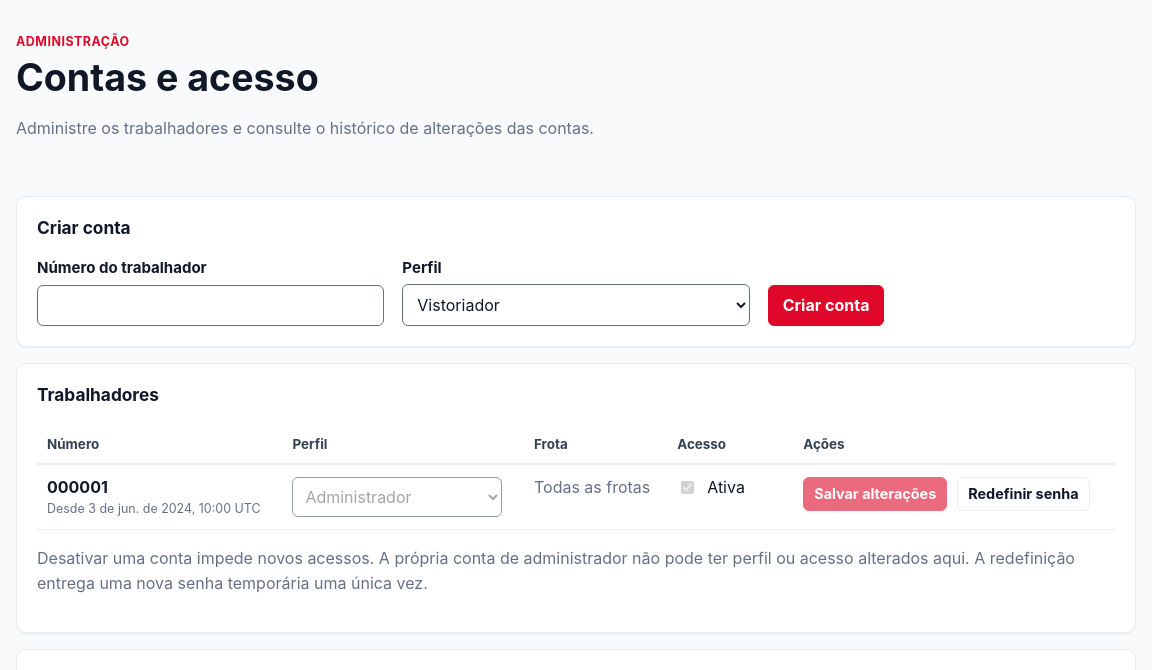
Test: AdminPage › mantém a senha temporária visível quando o administrador redefine a própria senha
Click the button "Redefinir senha" at point(1023, 494), box x1=957 y1=477 x2=1090 y2=511
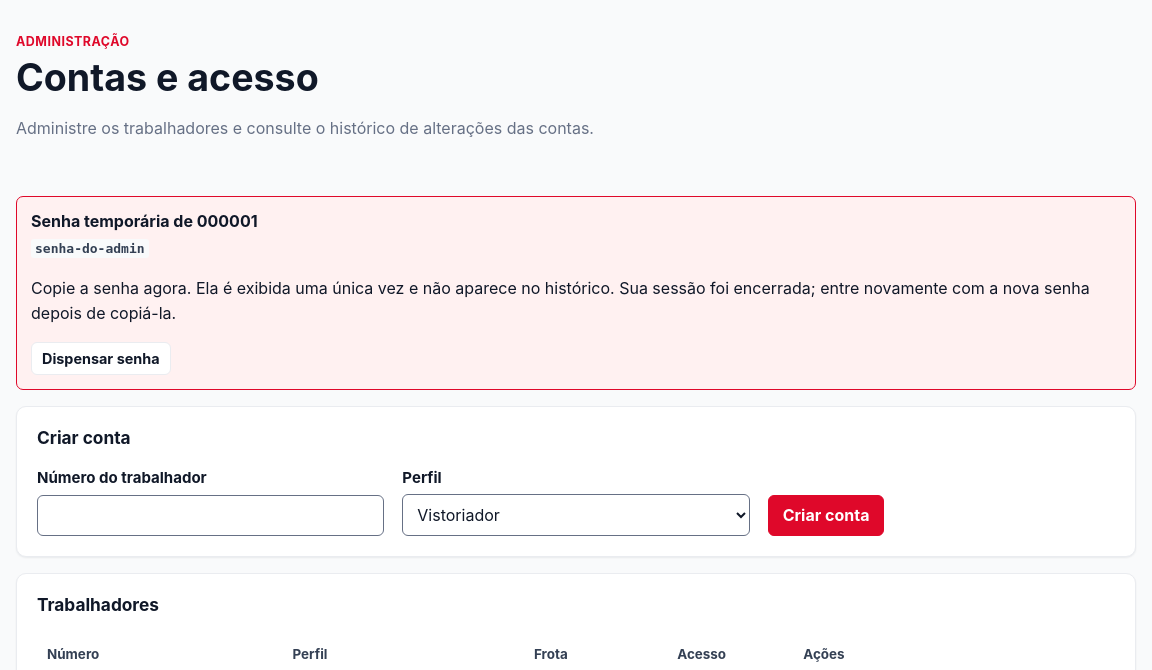
Check: the text "senha-do-admin" is shown, box x1=31 y1=239 x2=149 y2=258
Check: the text "Sua sessão foi encerrada" is shown, box x1=31 y1=278 x2=1090 y2=323
